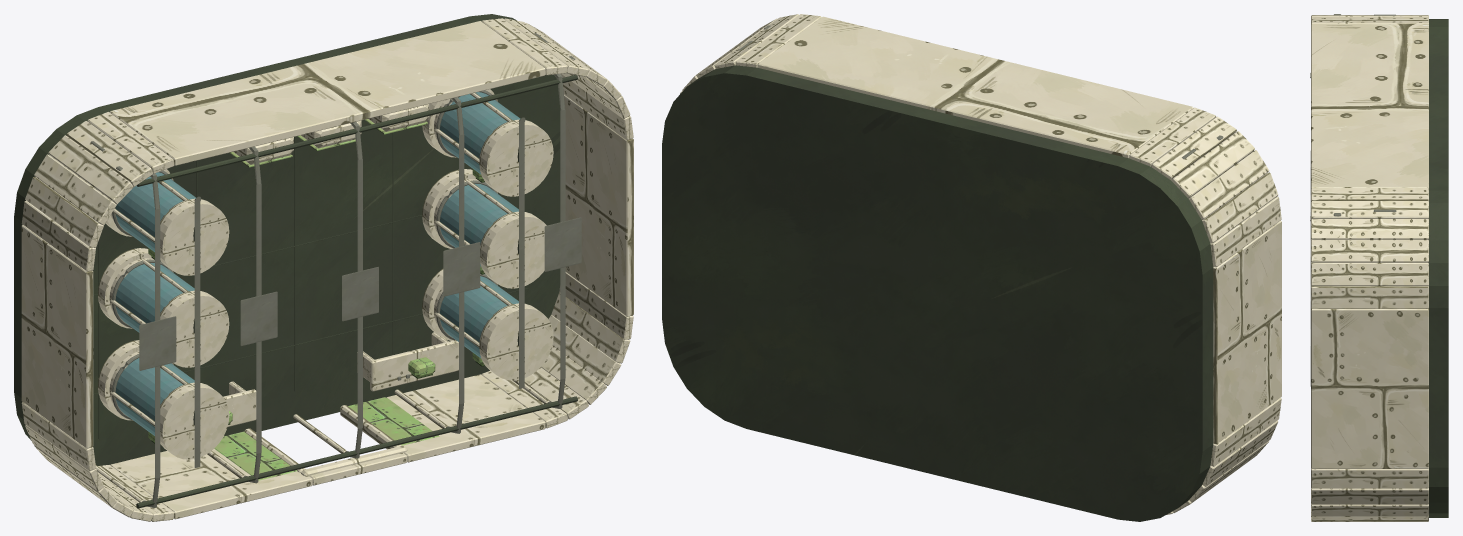
Rendered from ECHO7_03_Clonacion.obj.
3 renders of one model, left to right at view 1: azimuth 30°, elevation 25°; view 2: azimuth 150°, elevation 25°; view 3: azimuth 270°, elevation 25°, orthographic. The views are drawn at different scales.
Parts seen in each view (by area): view 1: ECHO7_03_Clonacion__Suelo_modulo_01, ECHO7_03_Clonacion__Pared_presion_07, ECHO7_03_Clonacion__Pared_presion_14, ECHO7_03_Clonacion__Pared_presion_27, ECHO7_03_Clonacion__Pared_frente_02, ECHO7_03_Clonacion__Pared_frente_01, ECHO7_03_Clonacion__Tanque_cabezal_04, ECHO7_03_Clonacion__Tanque_cabezal_06, ECHO7_03_Clonacion__Tanque_cabezal_03, ECHO7_03_Clonacion__Tanque_cabezal_01, ECHO7_03_Clonacion__Tanque_cabezal_05, ECHO7_03_Clonacion__Tanque_cabezal_02 (+50 smaller); view 2: ECHO7_03_Clonacion__Suelo_modulo_01, ECHO7_03_Clonacion__Pared_presion_07, ECHO7_03_Clonacion__Pared_presion_14, ECHO7_03_Clonacion__Pared_presion_11, ECHO7_03_Clonacion__Pared_presion_10, ECHO7_03_Clonacion__Pared_presion_12, ECHO7_03_Clonacion__Pared_presion_09, ECHO7_03_Clonacion__Pared_presion_13, ECHO7_03_Clonacion__Pared_presion_08, ECHO7_03_Clonacion__Pared_presion_15, ECHO7_03_Clonacion__Pared_presion_06, ECHO7_03_Clonacion__Pared_presion_16 (+1 smaller); view 3: ECHO7_03_Clonacion__Pared_presion_07, ECHO7_03_Clonacion__Pared_presion_27, ECHO7_03_Clonacion__Suelo_modulo_01, ECHO7_03_Clonacion__Pared_presion_03, ECHO7_03_Clonacion__Pared_presion_01, ECHO7_03_Clonacion__Pared_presion_02, ECHO7_03_Clonacion__Pared_presion_04, ECHO7_03_Clonacion__Pared_presion_26, ECHO7_03_Clonacion__Pared_presion_05, ECHO7_03_Clonacion__Pared_presion_25, ECHO7_03_Clonacion__Pared_presion_06, ECHO7_03_Clonacion__Pared_presion_24 (+3 smaller).
Part boxes in pixels (x1,y1,x2,y2): ECHO7_03_Clonacion__Suelo_modulo_01: (14, 14, 560, 465); ECHO7_03_Clonacion__Pared_presion_07: (109, 21, 545, 165); ECHO7_03_Clonacion__Pared_presion_14: (21, 225, 93, 448); ECHO7_03_Clonacion__Pared_presion_27: (564, 94, 633, 316); ECHO7_03_Clonacion__Pared_frente_02: (387, 374, 545, 462); ECHO7_03_Clonacion__Pared_frente_01: (110, 448, 312, 519); ECHO7_03_Clonacion__Tanque_cabezal_04: (479, 303, 553, 380); ECHO7_03_Clonacion__Tanque_cabezal_06: (479, 119, 553, 196); ECHO7_03_Clonacion__Tanque_cabezal_03: (160, 198, 229, 275); ECHO7_03_Clonacion__Tanque_cabezal_01: (160, 382, 229, 459); ECHO7_03_Clonacion__Tanque_cabezal_05: (480, 211, 546, 288); ECHO7_03_Clonacion__Tanque_cabezal_02: (160, 290, 229, 367); ECHO7_03_Clonacion__Suelo_modulo_01: (662, 65, 1213, 521); ECHO7_03_Clonacion__Pared_presion_07: (757, 16, 1193, 158); ECHO7_03_Clonacion__Pared_presion_14: (1213, 220, 1281, 444); ECHO7_03_Clonacion__Pared_presion_11: (1189, 150, 1269, 219); ECHO7_03_Clonacion__Pared_presion_10: (1171, 131, 1254, 198); ECHO7_03_Clonacion__Pared_presion_12: (1202, 172, 1278, 243); ECHO7_03_Clonacion__Pared_presion_09: (1151, 116, 1236, 180); ECHO7_03_Clonacion__Pared_presion_13: (1210, 196, 1281, 267); ECHO7_03_Clonacion__Pared_presion_08: (1129, 107, 1215, 166); ECHO7_03_Clonacion__Pared_presion_15: (1210, 397, 1281, 466); ECHO7_03_Clonacion__Pared_presion_06: (735, 14, 821, 67); ECHO7_03_Clonacion__Pared_presion_16: (1202, 420, 1278, 486); ECHO7_03_Clonacion__Pared_presion_07: (1311, 23, 1428, 188); ECHO7_03_Clonacion__Pared_presion_27: (1311, 308, 1428, 468); ECHO7_03_Clonacion__Suelo_modulo_01: (1429, 19, 1448, 517); ECHO7_03_Clonacion__Pared_presion_03: (1311, 239, 1428, 262); ECHO7_03_Clonacion__Pared_presion_01: (1311, 285, 1428, 308); ECHO7_03_Clonacion__Pared_presion_02: (1311, 263, 1428, 285); ECHO7_03_Clonacion__Pared_presion_04: (1311, 218, 1428, 240); ECHO7_03_Clonacion__Pared_presion_26: (1311, 468, 1428, 488); ECHO7_03_Clonacion__Pared_presion_05: (1311, 201, 1428, 219); ECHO7_03_Clonacion__Pared_presion_25: (1311, 488, 1428, 504); ECHO7_03_Clonacion__Pared_presion_06: (1311, 188, 1428, 201); ECHO7_03_Clonacion__Pared_presion_24: (1311, 504, 1428, 516).
Size of the model in its own units: 16.22 by 10.35 by 3.92.
Materials: 7 (7 with a texture image).
